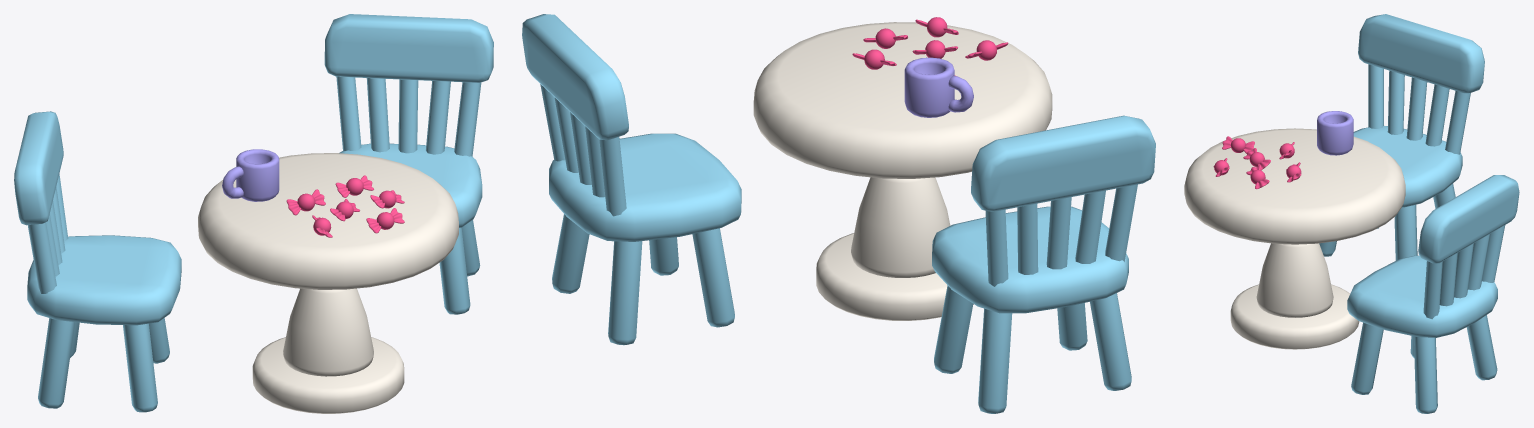
Rendered from Table.fbx.
The picture shows the model from 3 angles, left to right: view 1: azimuth 30°, elevation 25°; view 2: azimuth 150°, elevation 25°; view 3: azimuth 270°, elevation 25°; orthographic projection. The views are drawn at different scales.
Parts seen in each view (by area): view 1: Table, Chair02, Chair01, Mug, Candy06, Candy04, Candy05; view 2: Table, Chair01, Chair02, Mug; view 3: Table, Chair02, Chair01, Mug, Candy02, Candy03, Candy01.
Part boxes in pixels (box(x1,y1,x2,y2)): Table: box(198, 153, 458, 413); Chair02: box(324, 14, 493, 314); Chair01: box(14, 111, 181, 412); Mug: box(222, 149, 279, 201); Candy06: box(286, 189, 325, 215); Candy04: box(366, 208, 404, 233); Candy05: box(335, 175, 373, 197); Table: box(753, 22, 1052, 320); Chair01: box(932, 115, 1155, 413); Chair02: box(522, 14, 741, 345); Mug: box(904, 57, 973, 117); Table: box(1184, 128, 1405, 349); Chair02: box(1347, 175, 1519, 413); Chair01: box(1319, 14, 1484, 260); Mug: box(1317, 111, 1353, 155); Candy02: box(1222, 136, 1254, 153); Candy03: box(1246, 165, 1269, 189); Candy01: box(1243, 148, 1270, 170).
Size of the model in its own units: 2.58 by 1.17 by 1.72.
